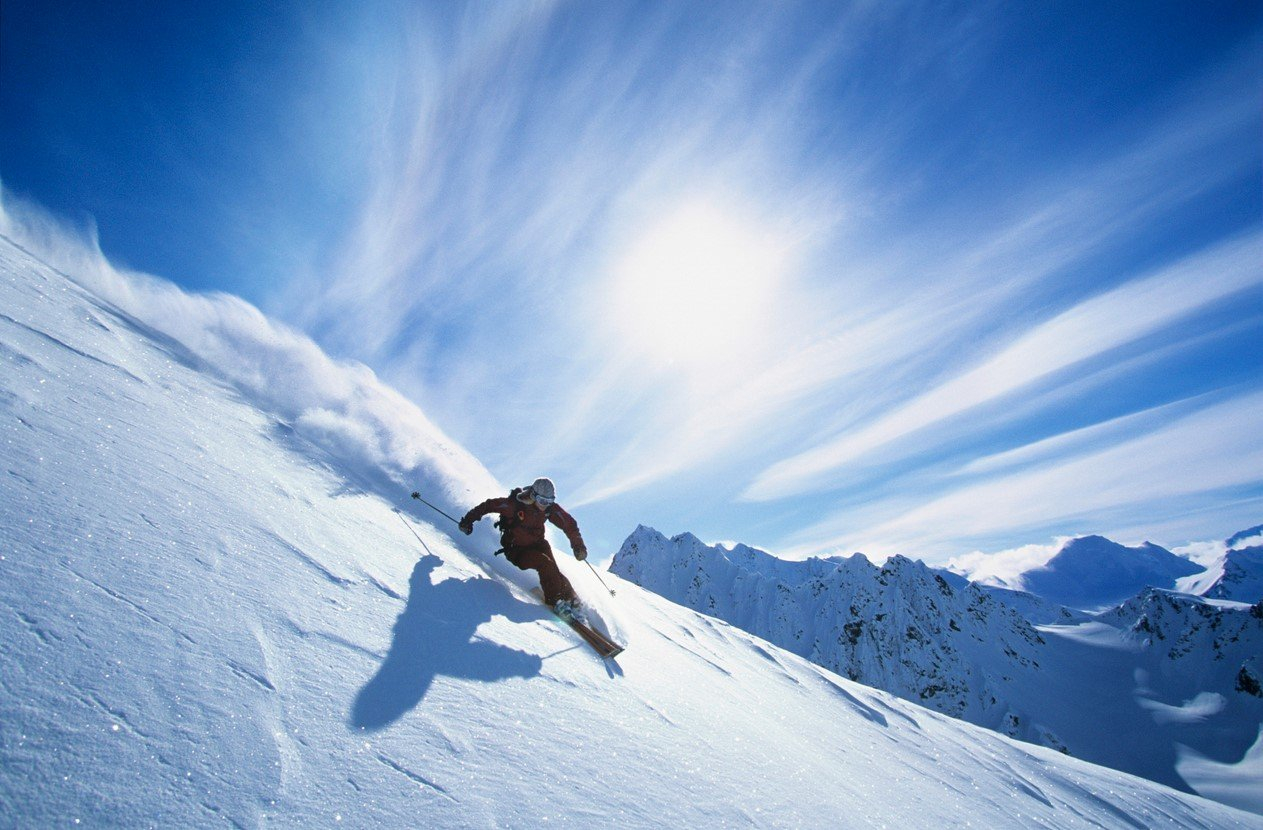skier: (457, 477, 621, 658)
